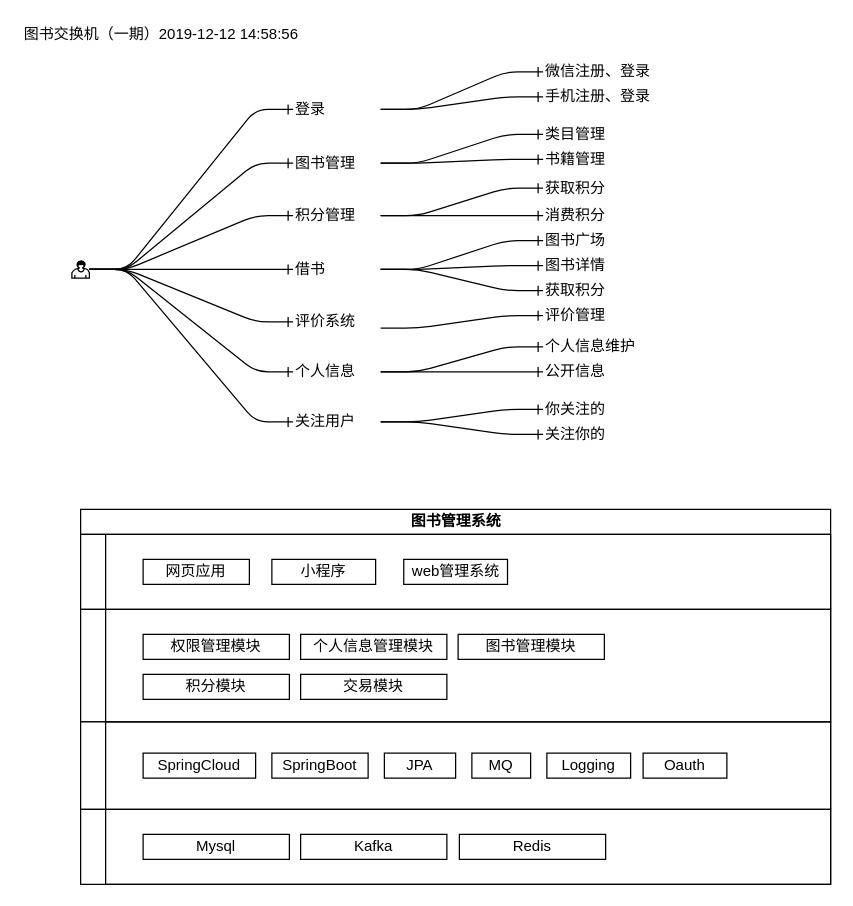
This 853x906 diagram has some shape labels left out. Each missing label, with the box of its shape:
应用层: (79, 533, 831, 609)
数据层: (79, 808, 831, 884)
服务层: (79, 608, 831, 722)
框架层: (79, 721, 831, 809)
